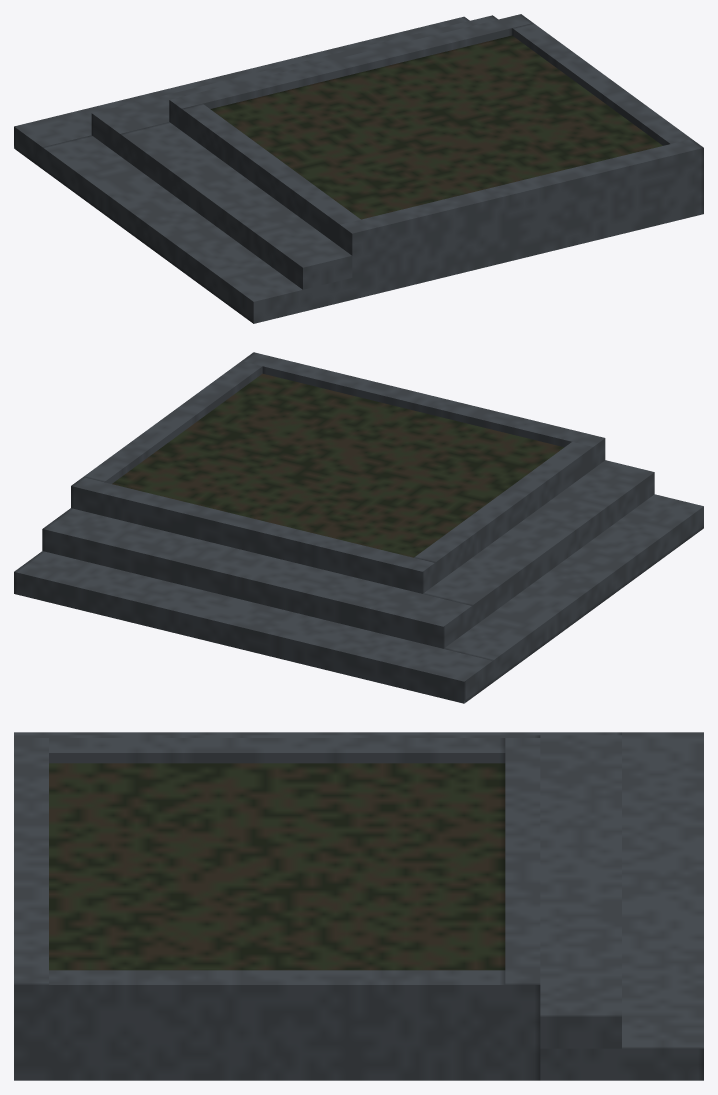
Rendered from bok_shodki_trawa.dae.
3 views of the same model, one above another, from view 1: azimuth 30°, elevation 25°; view 2: azimuth 150°, elevation 25°; view 3: azimuth 270°, elevation 25° (orthographic). The views are drawn at different scales.
Parts seen in each view (by area): view 1: Content; view 2: Content; view 3: Content.
Boxes of the visible parts, <box> form: Content: <box>14,14,703,323</box>; Content: <box>14,352,703,703</box>; Content: <box>14,732,703,1080</box>.
Bounding box in the file's own units: 64 × 9 × 59.
1 material, 1 textured.
